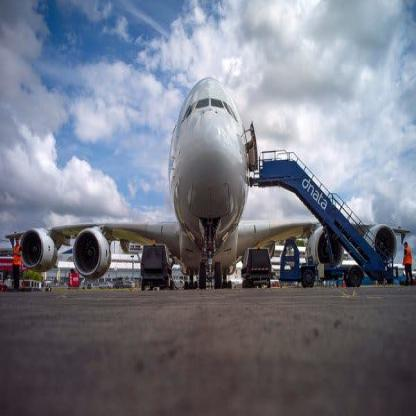CIV_Plane: (16, 74, 412, 300)
